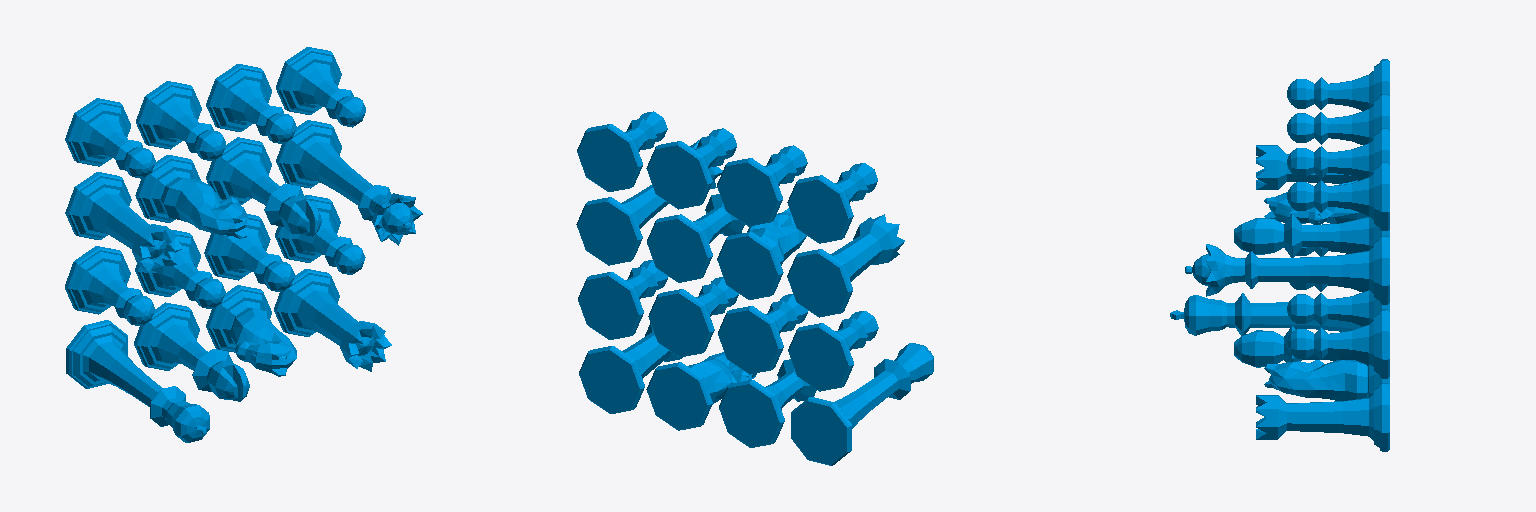
Rendered from Chess.obj.
The picture shows the model from 3 angles: view 1: azimuth 30°, elevation 25°; view 2: azimuth 150°, elevation 25°; view 3: azimuth 270°, elevation 25°; orthographic projection.
Parts seen in each view (by area): view 1: Object.1, Object.5, Object.6, Object.2, Object.8, Object.4, Object.16, Object.7, Object.10, Object.12, Object.3, Object.11 (+4 smaller); view 2: Object.5, Object.6, Object.7, Object.16, Object.4, Object.2, Object.8, Object.1, Object.12, Object.3, Object.9, Object.10 (+4 smaller); view 3: Object.1, Object.2, Object.4, Object.7, Object.5, Object.15, Object.11, Object.10, Object.9, Object.3, Object.14, Object.8 (+2 smaller).
Boxes of the visible parts, box(x1,y1,x2,y2) form: Object.1: box(276, 120, 422, 245); Object.5: box(66, 320, 209, 442); Object.6: box(65, 172, 183, 274); Object.2: box(274, 269, 391, 371); Object.8: box(134, 302, 249, 401); Object.4: box(206, 137, 321, 236); Object.16: box(135, 155, 247, 238); Object.7: box(206, 285, 296, 376); Object.10: box(65, 98, 155, 178); Object.12: box(65, 246, 154, 326); Object.3: box(206, 64, 296, 143); Object.11: box(276, 47, 365, 127); Object.5: box(791, 343, 933, 465); Object.6: box(787, 214, 904, 317); Object.7: box(646, 352, 756, 430); Object.16: box(717, 208, 806, 299); Object.4: box(647, 194, 744, 282); Object.2: box(579, 323, 682, 413); Object.8: box(719, 359, 816, 447); Object.1: box(576, 140, 722, 265); Object.12: box(788, 311, 878, 391); Object.3: box(646, 128, 736, 209); Object.9: box(717, 145, 807, 226); Object.10: box(787, 163, 877, 243); Object.1: box(1185, 235, 1389, 304); Object.2: box(1256, 383, 1389, 451); Object.4: box(1234, 213, 1389, 257); Object.7: box(1264, 360, 1389, 400); Object.5: box(1170, 293, 1361, 335); Object.15: box(1287, 309, 1389, 378); Object.11: box(1287, 162, 1389, 230); Object.10: box(1287, 59, 1389, 110); Object.9: box(1287, 94, 1389, 144); Object.3: box(1287, 128, 1389, 179); Object.14: box(1287, 290, 1389, 326); Object.8: box(1234, 326, 1368, 367).
Size of the model in its own units: 98.53 by 98.6 by 68.1.